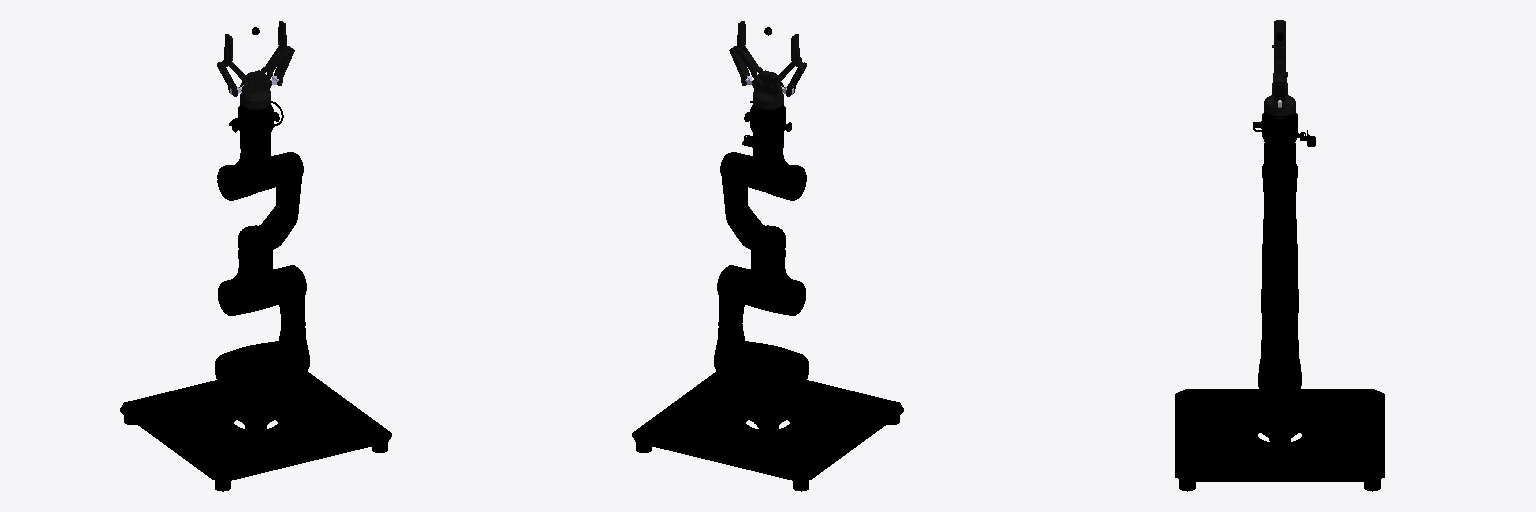
--- What the picture shows (computed from the rendered views, not written in the file) ---
The picture shows the robot from 3 angles, left to right: view 1: azimuth 30°, elevation 25°; view 2: azimuth 150°, elevation 25°; view 3: azimuth 270°, elevation 25°; orthographic projection.
Robot: mara — 32 links, 31 joints (12 revolute, 19 fixed); root link world; default pose: all joints at 0.
Visible links, largest first — view 1: base_link, motor1_link, motor4_link, motor3_link, motor2_link, motor1_cover, motor5_link, motor5_cover, motor3_cover, robotiq_arg2f_base_link, robotiq_adapter_link, motor6_link; view 2: base_link, motor1_link, motor4_link, motor3_link, motor2_link, motor1_cover, motor5_link, motor3_cover, motor5_cover, robotiq_arg2f_base_link, robotiq_adapter_link; view 3: base_link, motor2_link, motor4_link, motor3_link, motor5_link, motor1_link, motor6_link, robotiq_adapter_link.
Boxes of the visible links, x1=… form: base_link: x1=120, y1=371, x2=391, y2=491; motor1_link: x1=236, y1=340, x2=293, y2=429; motor4_link: x1=238, y1=152, x2=303, y2=253; motor3_link: x1=231, y1=250, x2=289, y2=310; motor2_link: x1=279, y1=265, x2=309, y2=376; motor1_cover: x1=215, y1=339, x2=297, y2=424; motor5_link: x1=234, y1=135, x2=286, y2=192; motor5_cover: x1=217, y1=133, x2=290, y2=200; motor3_cover: x1=218, y1=247, x2=292, y2=315; robotiq_arg2f_base_link: x1=239, y1=70, x2=271, y2=110; robotiq_adapter_link: x1=232, y1=105, x2=279, y2=134; motor6_link: x1=238, y1=101, x2=283, y2=137; base_link: x1=632, y1=371, x2=903, y2=491; motor1_link: x1=730, y1=340, x2=787, y2=429; motor4_link: x1=720, y1=152, x2=785, y2=253; motor3_link: x1=734, y1=250, x2=792, y2=310; motor2_link: x1=714, y1=265, x2=744, y2=376; motor1_cover: x1=726, y1=339, x2=808, y2=424; motor5_link: x1=737, y1=135, x2=789, y2=192; motor3_cover: x1=731, y1=247, x2=805, y2=315; motor5_cover: x1=733, y1=133, x2=806, y2=200; robotiq_arg2f_base_link: x1=752, y1=70, x2=784, y2=111; robotiq_adapter_link: x1=744, y1=105, x2=791, y2=134; base_link: x1=1175, y1=389, x2=1384, y2=491; motor2_link: x1=1260, y1=301, x2=1299, y2=417; motor4_link: x1=1262, y1=184, x2=1297, y2=261; motor3_link: x1=1261, y1=261, x2=1298, y2=313; motor5_link: x1=1263, y1=143, x2=1296, y2=195; motor1_link: x1=1258, y1=366, x2=1301, y2=442; motor6_link: x1=1253, y1=112, x2=1297, y2=145; robotiq_adapter_link: x1=1262, y1=113, x2=1297, y2=144.
Size in the robot's own frame: 0.5 by 0.5 by 1.09 metres.
23 mesh visuals loaded from 25 distinct referenced files (23 Collada DAE); not drawn: 6 (reference not matched to a file when rendering).

robot.urdf — mara:
<?xml version="1.0" ?>
<!-- =================================================================================== -->
<!-- |    This document was autogenerated by xacro from [local-path]/ros2_mara_ws/src/MARA/mara_description/urdf/reinforcement_learning/mara_robot_gripper_140_camera_train.urdf.xacro | -->
<!-- |    EDITING THIS FILE BY HAND IS NOT RECOMMENDED                                 | -->
<!-- =================================================================================== -->
<robot name="mara" xmlns:xacro="http://ros.org/wiki/xacro">
  <link name="base_link">
    <inertial>
      <origin rpy="0 0 0" xyz="8.625E-08 -4.6583E-06 0.03145"/>
      <mass value="7.033"/>
      <inertia ixx="0.1478344" ixy="-0.00001" ixz="0.0" iyy="0.14782335" iyz="0.0" izz="0.29471799"/>
    </inertial>
    <visual>
      <origin rpy="0 0 0" xyz="0 0 0"/>
      <geometry>
        <mesh filename="package://mara_description/meshes/Base_plancha.dae" scale="0.001 0.001 0.001"/>
      </geometry>
      <material name="Gazebo/Grey">
        <color rgba="0. 0. 0. 1"/>
      </material>
    </visual>
    <collision>
      <origin rpy="0 0 0" xyz="0 0 0"/>
      <geometry>
        <mesh filename="package://mara_description/meshes/Base_plancha.dae" scale="0.001 0.001 0.001"/>
      </geometry>
    </collision>
  </link>
  <gazebo reference="base_link">
    <material>Gazebo/Grey</material>
    <selfCollide>True</selfCollide>
  </gazebo>
  <link name="motor1_link">
    <inertial>
      <origin rpy="0 0 0" xyz="0.02066 0 0.12051"/>
      <mass value="5.6"/>
      <inertia ixx="0.0200769278" ixy="-7.72273E-006" ixz="0.0050158708" iyy="0.0257088151" iyz="5.49229E-006" izz="0.0120821377"/>
    </inertial>
    <visual>
      <origin rpy="0 0 0" xyz="0 0 0"/>
      <geometry>
        <mesh filename="package://mara_description/meshes/MARA_T49.dae" scale="0.001 0.001 0.001"/>
      </geometry>
      <material name="Gazebo/White">
        <color rgba="0. 0. 0. 1"/>
      </material>
    </visual>
    <collision>
      <origin rpy="0 0 0" xyz="0 0 0"/>
      <geometry>
        <mesh filename="package://mara_description/meshes/MARA_T49.dae" scale="0.001 0.001 0.001"/>
      </geometry>
    </collision>
  </link>
  <gazebo reference="motor1_link">
    <material>Gazebo/White</material>
    <selfCollide>True</selfCollide>
  </gazebo>
  <link name="motor1_cover">
    <inertial>
      <origin rpy="0 0 0" xyz="8.625E-08 -4.6583E-06 0.03145"/>
      <mass value="0.0"/>
      <inertia ixx="0.0" ixy="0.0" ixz="0.0" iyy="0.0" iyz="0.0" izz="0.0"/>
    </inertial>
    <visual>
      <origin rpy="0 0 0" xyz="0 0 0"/>
      <geometry>
        <mesh filename="package://mara_description/meshes/MARA_T49_Black.dae" scale="0.001 0.001 0.001"/>
      </geometry>
      <material name="Gazebo/Black">
        <color rgba="0. 0. 0. 1"/>
      </material>
    </visual>
    <collision>
      <origin rpy="0 0 0" xyz="0 0 0"/>
      <geometry>
        <mesh filename="package://mara_description/meshes/MARA_T49_Black.dae" scale="0.001 0.001 0.001"/>
      </geometry>
    </collision>
  </link>
  <gazebo reference="motor1_cover">
    <material>Gazebo/Black</material>
    <selfCollide>True</selfCollide>
  </gazebo>
  <link name="motor2_link">
    <inertial>
      <origin rpy="0 0 0" xyz="-0.01665 0.0 0.09639"/>
      <mass value="1.236"/>
      <inertia ixx="0.0079614839" ixy="0.000000037" ixz="-0.0003203013" iyy="0.007135338" iyz="-0.000001062" izz="0.001111114"/>
    </inertial>
    <visual>
      <origin rpy="0 0 0" xyz="0 0 0"/>
      <geometry>
        <mesh filename="package://mara_description/meshes/MARA_Link1.dae" scale="0.001 0.001 0.001"/>
      </geometry>
      <material name="Gazebo/Black">
        <color rgba="0. 0. 0. 1"/>
      </material>
    </visual>
    <collision>
      <origin rpy="0 0 0" xyz="0 0 0"/>
      <geometry>
        <mesh filename="package://mara_description/meshes/MARA_Link1.dae" scale="0.001 0.001 0.001"/>
      </geometry>
    </collision>
  </link>
  <gazebo reference="motor2_link">
    <material>Gazebo/Black</material>
    <selfCollide>True</selfCollide>
  </gazebo>
  <link name="motor3_link">
    <inertial>
      <origin rpy="0 0 0" xyz="-0.08963 0.0 0.0403"/>
      <mass value="3.95"/>
      <inertia ixx="0.0115136615" ixy="-1.231046E-005" ixz="-0.003148516" iyy="0.0149841676" iyz="-8.81378E-006" izz="0.0070387807"/>
    </inertial>
    <visual>
      <origin rpy="0 0 0" xyz="0 0 0"/>
      <geometry>
        <mesh filename="package://mara_description/meshes/MARA_T30.dae" scale="0.001 0.001 0.001"/>
      </geometry>
      <material name="Gazebo/White">
        <color rgba="0. 0. 0. 1"/>
      </material>
    </visual>
    <collision>
      <origin rpy="0 0 0" xyz="0 0 0"/>
      <geometry>
        <mesh filename="package://mara_description/meshes/MARA_T30.dae" scale="0.001 0.001 0.001"/>
      </geometry>
    </collision>
  </link>
  <gazebo reference="motor3_link">
    <material>Gazebo/White</material>
    <selfCollide>True</selfCollide>
  </gazebo>
  <link name="motor3_cover">
    <inertial>
      <origin rpy="0 0 0" xyz="8.625E-08 -4.6583E-06 0.03145"/>
      <mass value="0.0"/>
      <inertia ixx="0.0" ixy="0.0" ixz="0.0" iyy="0.0" iyz="0.0" izz="0.0"/>
    </inertial>
    <visual>
      <origin rpy="0 0 0" xyz="0 0 0"/>
      <geometry>
        <mesh filename="package://mara_description/meshes/MARA_T30_Black.dae" scale="0.001 0.001 0.001"/>
      </geometry>
      <material name="Gazebo/Black">
        <color rgba="0. 0. 0. 1"/>
      </material>
    </visual>
    <collision>
      <origin rpy="0 0 0" xyz="0 0 0"/>
      <geometry>
        <mesh filename="package://mara_description/meshes/MARA_T30_Black.dae" scale="0.001 0.001 0.001"/>
      </geometry>
    </collision>
  </link>
  <gazebo reference="motor3_cover">
    <material>Gazebo/Black</material>
    <selfCollide>True</selfCollide>
  </gazebo>
  <link name="motor4_link">
    <inertial>
      <origin rpy="0 0 0" xyz="0.06357 0.0 0.05698"/>
      <mass value="1.258"/>
      <inertia ixx="0.005919676" ixy="0.000000923" ixz="0.0022280208" iyy="0.0068807393" iyz="6.1373E-007" izz="0.00257485"/>
    </inertial>
    <visual>
      <origin rpy="0 0 0" xyz="0 0 0"/>
      <geometry>
        <mesh filename="package://mara_description/meshes/MARA_Link2.dae" scale="0.001 0.001 0.001"/>
      </geometry>
      <material name="Gazebo/Black">
        <color rgba="0. 0. 0. 1"/>
      </material>
    </visual>
    <collision>
      <origin rpy="0 0 0" xyz="0 0 0"/>
      <geometry>
        <mesh filename="package://mara_description/meshes/MARA_Link2.dae" scale="0.001 0.001 0.001"/>
      </geometry>
    </collision>
  </link>
  <gazebo reference="motor4_link">
    <material>Gazebo/Black</material>
    <selfCollide>True</selfCollide>
  </gazebo>
  <link name="motor5_link">
    <inertial>
      <origin rpy="0 0 0" xyz="-0.09105 0.0 0.03676"/>
      <mass value="2.85"/>
      <inertia ixx="0.0072829492" ixy="3.77994E-006" ixz="-0.0015682105" iyy="0.0098263499" iyz="2.52745E-006" izz="0.0045615321"/>
    </inertial>
    <visual>
      <origin rpy="0 0 0" xyz="0 0 0"/>
      <geometry>
        <mesh filename="package://mara_description/meshes/MARA_T5.4.dae" scale="0.001 0.001 0.001"/>
      </geometry>
      <material name="Gazebo/White">
        <color rgba="0. 0. 0. 1"/>
      </material>
    </visual>
    <collision>
      <origin rpy="0 0 0" xyz="0 0 0"/>
      <geometry>
        <mesh filename="package://mara_description/meshes/MARA_T5.4.dae" scale="0.001 0.001 0.001"/>
      </geometry>
    </collision>
  </link>
  <gazebo reference="motor5_link">
    <material>Gazebo/White</material>
    <selfCollide>True</selfCollide>
  </gazebo>
  <link name="motor5_cover">
    <inertial>
      <origin rpy="0 0 0" xyz="8.625E-08 -4.6583E-06 0.03145"/>
      <mass value="0.0"/>
      <inertia ixx="0.0" ixy="0.0" ixz="0.0" iyy="0.0" iyz="0.0" izz="0.0"/>
    </inertial>
    <visual>
      <origin rpy="0 0 0" xyz="0 0 0"/>
      <geometry>
        <mesh filename="package://mara_description/meshes/MARA_T5.4_black.dae" scale="0.001 0.001 0.001"/>
      </geometry>
      <material name="Gazebo/Black">
        <color rgba="0. 0. 0. 1"/>
      </material>
    </visual>
    <collision>
      <origin rpy="0 0 0" xyz="0 0 0"/>
      <geometry>
        <mesh filename="package://mara_description/meshes/MARA_T5.4_black.dae" scale="0.001 0.001 0.001"/>
      </geometry>
    </collision>
  </link>
  <gazebo reference="motor5_cover">
    <material>Gazebo/Black</material>
    <selfCollide>True</selfCollide>
  </gazebo>
  <link name="motor6_link">
    <inertial>
      <origin rpy="0 0 0" xyz="0.0 0.0 -0.0173"/>
      <mass value="0.14"/>
      <inertia ixx="9.22e-05" ixy="6.35e-7" ixz="2.00e-11" iyy="9.73e-5" iyz="2.36e-9" izz="1.77e-4"/>
    </inertial>
    <visual>
      <origin rpy="0 0 0" xyz="0 0 0"/>
      <geometry>
        <mesh filename="package://mara_description/meshes/MARA_GripperAdapter.dae" scale="0.001 0.001 0.001"/>
      </geometry>
      <material name="Gazebo/Black">
        <color rgba="0. 0. 0. 1"/>
      </material>
    </visual>
    <collision>
      <origin rpy="0 0 0" xyz="0 0 0"/>
      <geometry>
        <mesh filename="package://mara_description/meshes/MARA_GripperAdapter.dae" scale="0.001 0.001 0.001"/>
      </geometry>
    </collision>
  </link>
  <gazebo reference="motor6_link">
    <material>Gazebo/Black</material>
    <selfCollide>True</selfCollide>
  </gazebo>
  <link name="ee_link">
    <visual>
      <geometry>
        <sphere radius="0.01"/>
      </geometry>
      <material name="Gazebo/Grey">
        <color rgba="0. 0. 0. 1"/>
      </material>
    </visual>
  </link>
  <gazebo reference="ee_link">
    <material>Gazebo/Blue</material>
    <selfCollide>False</selfCollide>
  </gazebo>
  <joint name="motor1" type="revolute">
    <origin rpy="0 0 0" xyz="0 0 0.02125"/>
    <parent link="base_link"/>
    <child link="motor1_link"/>
    <axis xyz="0 0 1"/>
    <limit effort="104.0" lower="-3.1416" upper="3.1416" velocity="1.57"/>
    <dynamics damping="0" friction="0"/>
  </joint>
  <joint name="motor1_cover_joint" type="fixed">
    <origin rpy="0 0 0" xyz="0 0 0.0"/>
    <parent link="motor1_link"/>
    <child link="motor1_cover"/>
  </joint>
  <joint name="motor2" type="revolute">
    <origin rpy="0 0 0" xyz="0.118 0 0.1637"/>
    <parent link="motor1_link"/>
    <child link="motor2_link"/>
    <axis xyz="1 0 0"/>
    <limit effort="104.0" lower="-2.35" upper="2.35" velocity="1.57"/>
    <dynamics damping="0" friction="0"/>
  </joint>
  <joint name="motor3" type="revolute">
    <origin rpy="0 0 0" xyz="-0.009 0 0.2"/>
    <parent link="motor2_link"/>
    <child link="motor3_link"/>
    <axis xyz="-1 0 0"/>
    <limit effort="69" lower="-2.61" upper="2.61" velocity="1.57"/>
    <dynamics damping="0" friction="0"/>
  </joint>
  <joint name="motor3_cover_joint" type="fixed">
    <origin rpy="0 0 0" xyz="0 0 0.0"/>
    <parent link="motor3_link"/>
    <child link="motor3_cover"/>
  </joint>
  <joint name="motor4" type="revolute">
    <origin rpy="0 0 0" xyz="-0.109255 0 0.149255"/>
    <parent link="motor3_link"/>
    <child link="motor4_link"/>
    <axis xyz="0 0 1"/>
    <limit effort="69" lower="-3.14" upper="3.14" velocity="1.57"/>
    <dynamics damping="0" friction="0"/>
  </joint>
  <joint name="motor5" type="revolute">
    <origin rpy="0 0 0" xyz="0.1054570 0 0.16074"/>
    <parent link="motor4_link"/>
    <child link="motor5_link"/>
    <axis xyz="-1 0 0"/>
    <limit effort="34" lower="-2.56" upper="2.56" velocity="1.57"/>
    <dynamics damping="0" friction="0"/>
  </joint>
  <joint name="motor5_cover_joint" type="fixed">
    <origin rpy="0 0 0" xyz="0 0 0.0"/>
    <parent link="motor5_link"/>
    <child link="motor5_cover"/>
  </joint>
  <joint name="motor6" type="revolute">
    <origin rpy="0 0 0" xyz="-0.10625569 0 0.14675569"/>
    <parent link="motor5_link"/>
    <child link="motor6_link"/>
    <axis xyz="0 0 1"/>
    <limit effort="34" lower="-3.14" upper="3.14" velocity="1.57"/>
    <dynamics damping="0" friction="0"/>
  </joint>
  <joint name="ee_link" type="fixed">
    <origin rpy="0 -1.57 0" xyz="0 0.0 0.24"/>
    <!-- 0.24 -->
    <parent link="motor6_link"/>
    <child link="ee_link"/>
  </joint>
  <link name="tool0"/>
  <joint name="motor6_link-tool0_fixed_joint" type="fixed">
    <origin rpy="0 -1.57 0" xyz="0 0.0 0.24"/>
    <parent link="motor6_link"/>
    <child link="tool0"/>
  </joint>
  <transmission name="shoulder_pan_trans">
    <type>transmission_interface/SimpleTransmission</type>
    <joint name="motor1">
      <hardwareInterface>hardware_interface/PositionJointInterface</hardwareInterface>
    </joint>
    <actuator name="shoulder_pan_motor">
      <mechanicalReduction>1</mechanicalReduction>
    </actuator>
  </transmission>
  <transmission name="shoulder_lift_trans">
    <type>transmission_interface/SimpleTransmission</type>
    <joint name="motor2">
      <hardwareInterface>hardware_interface/PositionJointInterface</hardwareInterface>
    </joint>
    <actuator name="shoulder_lift_motor">
      <mechanicalReduction>1</mechanicalReduction>
    </actuator>
  </transmission>
  <transmission name="elbow_trans">
    <type>transmission_interface/SimpleTransmission</type>
    <joint name="motor3">
      <hardwareInterface>hardware_interface/PositionJointInterface</hardwareInterface>
    </joint>
    <actuator name="elbow_motor">
      <mechanicalReduction>1</mechanicalReduction>
    </actuator>
  </transmission>
  <transmission name="wrist_1_trans">
    <type>transmission_interface/SimpleTransmission</type>
    <joint name="motor4">
      <hardwareInterface>hardware_interface/PositionJointInterface</hardwareInterface>
    </joint>
    <actuator name="wrist_1_motor">
      <mechanicalReduction>1</mechanicalReduction>
    </actuator>
  </transmission>
  <transmission name="wrist_2_trans">
    <type>transmission_interface/SimpleTransmission</type>
    <joint name="motor5">
      <hardwareInterface>hardware_interface/PositionJointInterface</hardwareInterface>
    </joint>
    <actuator name="wrist_2_motor">
      <mechanicalReduction>1</mechanicalReduction>
    </actuator>
  </transmission>
  <transmission name="wrist_3_trans">
    <type>transmission_interface/SimpleTransmission</type>
    <joint name="motor6">
      <hardwareInterface>hardware_interface/PositionJointInterface</hardwareInterface>
    </joint>
    <actuator name="wrist_3_motor">
      <mechanicalReduction>1</mechanicalReduction>
    </actuator>
  </transmission>
  <gazebo>
    <plugin filename="libmara_gazebo_joint_training_plugin.so" name="hrim_actuation_servomotor_00000000000">
      <ros/>
      <axis1>motor2</axis1>
      <axis2>motor1</axis2>
      <axis3>motor3</axis3>
      <axis4>motor4</axis4>
      <axis5>motor5</axis5>
      <axis6>motor6</axis6>
    </plugin>
  </gazebo>
  <link name="mara_gripper_adapter">
    <inertial>
      <origin rpy="0 0 0" xyz="8.625E-08 -4.6583E-06 0.03145"/>
      <mass value="0.1"/>
      <inertia ixx="91283.23E-9" ixy="634.87E-9" ixz="-0.02E-9" iyy="97239.94E-9" iyz="93.72E-9" izz="175963.64E-9"/>
    </inertial>
    <visual>
      <origin rpy="0 0 0" xyz="0 0 0"/>
      <geometry>
        <mesh filename="package://mara_description/meshes/ROBOTIQ_Gripper_Adapter.dae" scale="0.001 0.001 0.001"/>
      </geometry>
      <material name="Gazebo/Wood">
        <color rgba="0. 0. 0. 1"/>
      </material>
    </visual>
    <collision>
      <origin rpy="0 0 0" xyz="0 0 0"/>
      <geometry>
        <mesh filename="package://mara_description/meshes/ROBOTIQ_Gripper_Adapter.dae" scale="0.001 0.001 0.001"/>
      </geometry>
    </collision>
  </link>
  <gazebo reference="mara_gripper_adapter">
    <material>Gazebo/Black</material>
    <selfCollide>True</selfCollide>
  </gazebo>
  <link name="mara_camera_support1_link">
    <inertial>
      <origin rpy="0 0 0" xyz="8.625E-08 -4.6583E-06 0.03145"/>
      <mass value="0.00361"/>
      <inertia ixx="266.47E-9" ixy="0.0" ixz="0.0" iyy="115.40E-9" iyz="-0.40E-9" izz="233.53E-9"/>
    </inertial>
    <visual>
      <origin rpy="0 0 0" xyz="0 0 0"/>
      <geometry>
        <mesh filename="package://mara_description/meshes/Camera_Support_1.dae" scale="0.001 0.001 0.001"/>
      </geometry>
      <material name="Gazebo/Wood">
        <color rgba="0. 0. 0. 1"/>
      </material>
    </visual>
    <collision>
      <origin rpy="0 0 0" xyz="0 0 0"/>
      <geometry>
        <mesh filename="package://mara_description/meshes/Camera_Support_1.dae" scale="0.001 0.001 0.001"/>
      </geometry>
    </collision>
  </link>
  <gazebo reference="mara_camera_support1_link">
    <material>Gazebo/Black</material>
    <selfCollide>True</selfCollide>
  </gazebo>
  <link name="mara_camera_support2_link">
    <inertial>
      <origin rpy="0 0 0" xyz="8.625E-08 -4.6583E-06 0.03145"/>
      <mass value="0.00676"/>
      <inertia ixx="584.80E-9" ixy="28.57E-9" ixz="-2.42E-9" iyy="1930.29E-9" iyz="-140.62E-9" izz="2077.50E-9"/>
    </inertial>
    <visual>
      <origin rpy="0 0 0" xyz="0 0 0"/>
      <geometry>
        <mesh filename="package://mara_description/meshes/Camera_Support_2.dae" scale="0.001 0.001 0.001"/>
      </geometry>
      <material name="Gazebo/Wood">
        <color rgba="0. 0. 0. 1"/>
      </material>
    </visual>
    <collision>
      <origin rpy="0 0 0" xyz="0 0 0"/>
      <geometry>
        <mesh filename="package://mara_description/meshes/Camera_Support_2.dae" scale="0.001 0.001 0.001"/>
      </geometry>
    </collision>
  </link>
  <gazebo reference="mara_camera_support2_link">
    <material>Gazebo/Black</material>
    <selfCollide>True</selfCollide>
  </gazebo>
  <joint name="gripper_adapter_to_camera_support1" type="fixed">
    <origin rpy="0 0 0" xyz="0 0.03956 -0.0213"/>
    <parent link="mara_gripper_adapter"/>
    <child link="mara_camera_support1_link"/>
  </joint>
  <joint name="camera_support1_to_support2" type="fixed">
    <origin rpy="0 0 0" xyz="0 0.01029 -0.0128"/>
    <parent link="mara_camera_support1_link"/>
    <child link="mara_camera_support2_link"/>
  </joint>
  <link name="camera_link">
    <inertial>
      <origin rpy="0 0 0" xyz="8.625E-08 -4.6583E-06 0.03145"/>
      <mass value="0.07397"/>
      <inertia ixx="6975.32E-9" ixy="287.18E-9" ixz="25.68E-9" iyy="47975.37E-9" iyz="-25.58E-9" izz="48114.25E-9"/>
    </inertial>
    <visual>
      <origin rpy="0 0 0" xyz="0 0 0"/>
      <geometry>
        <mesh filename="package://mara_description/meshes/Intel_RealSense_Depth_Camera_D435.dae" scale="0.001 0.001 0.001"/>
      </geometry>
      <material name="aluminum">
        <color rgba="0.5 0.5 0.5 1"/>
      </material>
    </visual>
    <collision>
      <origin rpy="0 0 0" xyz="0 0 0"/>
      <geometry>
        <mesh filename="package://mara_description/meshes/Intel_RealSense_Depth_Camera_D435.dae" scale="0.001 0.001 0.001"/>
      </geometry>
    </collision>
  </link>
  <gazebo reference="camera_link">
    <material>Gazebo/Grey</material>
    <selfCollide>True</selfCollide>
  </gazebo>
  <link name="camera_right_depth"/>
  <link name="camera_ir_projector"/>
  <link name="camera_left_depth"/>
  <link name="camera_color"/>
  <gazebo reference="camera_color">
    <sensor name="sensor_camera" type="camera">
      <alwaysOn>true</alwaysOn>
      <!-- <visualize>true</visualize> -->
      <camera>
        <image>
          <width>640</width>
          <height>480</height>
          <format>R8G8B8</format>
        </image>
      </camera>
      <plugin filename="libgazebo_ros_camera.so" name="gazebo_plugins">
        <ros>
          <namespace>rs_camera</namespace>
          <argument>image_raw:=custom_img</argument>
          <argument>camera_info:=custom_info</argument>
        </ros>
        <camera_name>rs_d435</camera_name>
        <frame_name>rs_camera_frame</frame_name>
        <hack_baseline>0.07</hack_baseline>
      </plugin>
    </sensor>
  </gazebo>
  <joint name="camera_to_right_depth" type="fixed">
    <origin rpy="0 0 0" xyz="0.0325 0.024 0.0"/>
    <parent link="camera_link"/>
    <child link="camera_right_depth"/>
  </joint>
  <joint name="camera_to_ir_projector" type="fixed">
    <origin rpy="0 0 0" xyz="0.0115 0.0214 0.0"/>
    <parent link="camera_link"/>
    <child link="camera_ir_projector"/>
  </joint>
  <joint name="camera_to_left_depth" type="fixed">
    <origin rpy="0 0 0" xyz="-0.0175 0.024 0.0"/>
    <parent link="camera_link"/>
    <child link="camera_left_depth"/>
  </joint>
  <joint name="camera_to_color" type="fixed">
    <origin rpy="0.0 0.0 1.57" xyz="-0.0325 0.0214 0.0"/>
    <parent link="camera_link"/>
    <child link="camera_color"/>
  </joint>
  <link name="robotiq_adapter_link">
    <inertial>
      <origin rpy="0 0 0" xyz="8.625E-08 -4.6583E-06 0.03145"/>
      <mass value="0.22652"/>
      <inertia ixx="0.00020005" ixy="0" ixz="0" iyy="0.00017832" iyz="0" izz="0.00013478"/>
    </inertial>
    <visual>
      <origin rpy="0 0 1.57" xyz="0 0 0"/>
      <geometry>
        <mesh filename="package://robotiq_140_gripper_description/meshes/hros_robotiq_adapter.dae" scale="0.001 0.001 0.001"/>
      </geometry>
      <material name="Gazebo/Black">
        <color rgba="0.0 0.0 0.0 1"/>
      </material>
    </visual>
    <collision>
      <origin rpy="0 0 1.57" xyz="0 0 0"/>
      <geometry>
        <mesh filename="package://robotiq_140_gripper_description/meshes/hros_robotiq_adapter.dae" scale="0.001 0.001 0.001"/>
      </geometry>
    </collision>
  </link>
  <gazebo reference="robotiq_adapter_link">
    <material>Gazebo/Black</material>
    <selfCollide>False</selfCollide>
  </gazebo>
  <joint name="base_adapter_to_base_robotiq_joint" type="fixed">
    <origin rpy="0 0 0" xyz=" 0 0 0.03653"/>
    <parent link="robotiq_adapter_link"/>
    <child link="robotiq_arg2f_base_link"/>
  </joint>
  <link name="robotiq_arg2f_base_link">
    <inertial>
      <origin rpy="0 0 0" xyz="8.625E-08 -4.6583E-06 0.03145"/>
      <mass value="0.22652"/>
      <inertia ixx="0.00020005" ixy="0" ixz="0" iyy="0.00017832" iyz="0" izz="0.00013478"/>
    </inertial>
    <visual>
      <origin rpy="0 0 1.57" xyz="0 0 0"/>
      <geometry>
        <mesh filename="package://robotiq_140_gripper_description/meshes/GRIPPER_base_axis.dae" scale="0.001 0.001 0.001"/>
      </geometry>
      <material name="Gazebo/Black">
        <color rgba="0.1 0.1 0.1 1"/>
      </material>
    </visual>
    <collision>
      <origin rpy="0 0 1.57" xyz="0 0 0"/>
      <geometry>
        <mesh filename="package://robotiq_140_gripper_description/meshes/GRIPPER_base_axis.dae" scale="0.001 0.001 0.001"/>
      </geometry>
    </collision>
  </link>
  <gazebo reference="robotiq_arg2f_base_link">
    <material>Gazebo/Black</material>
    <selfCollide>False</selfCollide>
  </gazebo>
  <link name="left_outer_knuckle">
    <inertial>
      <origin rpy="0 0 0" xyz="0 0 0"/>
      <mass value="0.00853198276973456"/>
      <inertia ixx="2.89328108496468E-06" ixy="-1.57935047237397E-19" ixz="-1.93980378593255E-19" iyy="1.86719750325683E-06" iyz="-1.21858577871576E-06" izz="1.21905238907251E-06"/>
    </inertial>
    <visual>
      <origin rpy="0 0 0" xyz="0 0 0"/>
      <geometry>
        <mesh filename="package://robotiq_140_gripper_description/meshes/robotiq_140_left_outer_knuckle.dae"/>
      </geometry>
      <material name="">
        <color rgba="0.792156862745098 0.819607843137255 0.933333333333333 1"/>
      </material>
    </visual>
    <collision>
      <origin rpy="0 0 0" xyz="0 0 0"/>
      <geometry>
        <mesh filename="package://robotiq_140_gripper_description/meshes/robotiq_140_left_outer_knuckle.dae"/>
      </geometry>
    </collision>
  </link>
  <gazebo reference="left_outer_knuckle">
    <material>Gazebo/Grey</material>
    <selfCollide>False</selfCollide>
  </gazebo>
  <link name="right_outer_knuckle">
    <inertial>
      <origin rpy="0 0 0" xyz="0 0 0"/>
      <mass value="0.00853198276973456"/>
      <inertia ixx="2.89328108496468E-06" ixy="-1.57935047237397E-19" ixz="-1.93980378593255E-19" iyy="1.86719750325683E-06" iyz="-1.21858577871576E-06" izz="1.21905238907251E-06"/>
    </inertial>
    <visual>
      <origin rpy="0 0 0" xyz="0 0 0"/>
      <geometry>
        <mesh filename="package://robotiq_140_gripper_description/meshes/robotiq_140_right_outer_knuckle.dae"/>
      </geometry>
      <material name="">
        <color rgba="0.792156862745098 0.819607843137255 0.933333333333333 1"/>
      </material>
    </visual>
    <collision>
      <origin rpy="0 0 0" xyz="0 0 0"/>
      <geometry>
        <mesh filename="package://robotiq_140_gripper_description/meshes/robotiq_140_right_outer_knuckle.dae"/>
      </geometry>
    </collision>
  </link>
  <gazebo reference="right_outer_knuckle">
    <material>Gazebo/Grey</material>
    <selfCollide>False</selfCollide>
  </gazebo>
  <link name="left_inner_knuckle">
    <inertial>
      <origin rpy="0 0 0" xyz="0.000123011831763771 0.0507850843201817 0.00103968640075166"/>
      <mass value="0.0271177346495152"/>
      <inertia ixx="2.61910379223783E-05" ixy="-2.43616858946494E-07" ixz="-6.37789906117123E-09" iyy="2.8270243746167E-06" iyz="-5.37200748039765E-07" izz="2.83695868220296E-05"/>
    </inertial>
    <visual>
      <origin rpy="0 0 0" xyz="0 0 0"/>
      <geometry>
        <mesh filename="package://robotiq_140_gripper_description/meshes/robotiq_140_left_inner_knuckle.dae"/>
      </geometry>
      <material name="Gazebo/Black">
        <color rgba="0.1 0.1 0.1 1"/>
      </material>
    </visual>
  </link>
  <gazebo reference="left_inner_knuckle">
    <material>Gazebo/Black</material>
    <selfCollide>False</selfCollide>
  </gazebo>
  <link name="right_inner_knuckle">
    <inertial>
      <origin rpy="0 0 0" xyz="0.000123011831763771 0.0507850843201817 0.00103968640075166"/>
      <mass value="0.0271177346495152"/>
      <inertia ixx="2.61910379223783E-05" ixy="-2.43616858946494E-07" ixz="-6.37789906117123E-09" iyy="2.8270243746167E-06" iyz="-5.37200748039765E-07" izz="2.83695868220296E-05"/>
    </inertial>
    <visual>
      <origin rpy="0 0 0" xyz="0 0 0"/>
      <geometry>
        <mesh filename="package://robotiq_140_gripper_description/meshes/robotiq_140_right_inner_knuckle.dae"/>
      </geometry>
      <material name="Gazebo/Black">
        <color rgba="0.1 0.1 0.1 1"/>
      </material>
    </visual>
  </link>
  <gazebo reference="right_inner_knuckle">
    <material>Gazebo/Black</material>
    <selfCollide>False</selfCollide>
  </gazebo>
  <link name="left_inner_finger">
    <inertial>
      <origin rpy="0 0 0" xyz="0.0 0.031506174 -0.017648840"/>
      <mass value="0.0104003125914103"/>
      <inertia ixx="2.71909453810972E-06" ixy="1.35402465472579E-21" ixz="-7.1817349065269E-22" iyy="7.69100314106116E-07" iyz="6.74715432769696E-07" izz="2.30315190420171E-06"/>
    </inertial>
    <visual>
      <origin rpy="0 0 0" xyz="0 0 0"/>
      <geometry>
        <mesh filename="package://robotiq_140_gripper_description/meshes/robotiq_140_left_inner_finger.dae" scale="0.001 0.001 0.001"/>
      </geometry>
      <material name="Gazebo/Black">
        <color rgba="0.1 0.1 0.1 1"/>
      </material>
    </visual>
    <collision>
      <origin rpy="0 0 0" xyz="0 0 0"/>
      <geometry>
        <mesh filename="package://robotiq_140_gripper_description/meshes/robotiq_140_left_inner_finger.dae" scale="0.001 0.001 0.001"/>
      </geometry>
    </collision>
  </link>
  <gazebo reference="left_inner_finger">
    <material>Gazebo/Black</material>
    <selfCollide>False</selfCollide>
  </gazebo>
  <link name="right_inner_finger">
    <inertial>
      <origin rpy="0 0 0" xyz="0.0 0.031506174 -0.017648840"/>
      <mass value="0.0104003125914103"/>
      <inertia ixx="2.71909453810972E-06" ixy="1.35402465472579E-21" ixz="-7.1817349065269E-22" iyy="7.69100314106116E-07" iyz="6.74715432769696E-07" izz="2.30315190420171E-06"/>
    </inertial>
    <visual>
      <origin rpy="0 0 0" xyz="0 0 0"/>
      <geometry>
        <mesh filename="package://robotiq_140_gripper_description/meshes/robotiq_140_right_inner_finger.dae" scale="0.001 0.001 0.001"/>
      </geometry>
      <material name="Gazebo/Black">
        <color rgba="0.1 0.1 0.1 1"/>
      </material>
    </visual>
    <collision>
      <origin rpy="0 0 0" xyz="0 0 0"/>
      <geometry>
        <mesh filename="package://robotiq_140_gripper_description/meshes/robotiq_140_right_inner_finger.dae" scale="0.001 0.001 0.001"/>
      </geometry>
    </collision>
  </link>
  <gazebo reference="right_inner_finger">
    <material>Gazebo/Black</material>
    <selfCollide>False</selfCollide>
  </gazebo>
  <link name="left_outer_finger">
    <inertial>
      <origin rpy="0 0 0" xyz="0.00030115855001899 0.0373907951953854 -0.0208027427000385"/>
      <mass value="0.022614240507152"/>
      <inertia ixx="1.52518312458174E-05" ixy="9.76583423954399E-10" ixz="-5.43838577022588E-10" iyy="6.17694243867776E-06" iyz="6.78636130740228E-06" izz="1.16494917907219E-05"/>
    </inertial>
    <visual>
      <origin rpy="0 0 0" xyz="0 0 0"/>
      <geometry>
        <mesh filename="package://robotiq_140_gripper_description/meshes/robotiq_140_left_outer_finger.dae"/>
      </geometry>
      <material name="Gazebo/Black">
        <color rgba="0.1 0.1 0.1 1"/>
      </material>
    </visual>
    <collision>
      <origin rpy="0 0 0" xyz="0 0 0"/>
      <geometry>
        <mesh filename="package://robotiq_140_gripper_description/meshes/robotiq_140_left_outer_finger.dae"/>
      </geometry>
    </collision>
  </link>
  <gazebo reference="left_outer_finger">
    <material>Gazebo/Black</material>
    <selfCollide>False</selfCollide>
  </gazebo>
  <link name="right_outer_finger">
    <inertial>
      <origin rpy="0 0 0" xyz="0.00030115855001899 0.0373907951953854 -0.0208027427000385"/>
      <mass value="0.022614240507152"/>
      <inertia ixx="1.52518312458174E-05" ixy="9.76583423954399E-10" ixz="-5.43838577022588E-10" iyy="6.17694243867776E-06" iyz="6.78636130740228E-06" izz="1.16494917907219E-05"/>
    </inertial>
    <visual>
      <origin rpy="0 0 0" xyz="0 0 0"/>
      <geometry>
        <mesh filename="package://robotiq_140_gripper_description/meshes/robotiq_140_right_outer_finger.dae"/>
      </geometry>
      <material name="Gazebo/Black">
        <color rgba="0.1 0.1 0.1 1"/>
      </material>
    </visual>
    <collision>
      <origin rpy="0 0 0" xyz="0 0 0"/>
      <geometry>
        <mesh filename="package://robotiq_140_gripper_description/meshes/robotiq_140_right_outer_finger.dae"/>
      </geometry>
    </collision>
  </link>
  <gazebo reference="right_outer_finger">
    <material>Gazebo/Black</material>
    <selfCollide>False</selfCollide>
  </gazebo>
  <joint name="left_outer_knuckle_joint" type="revolute">
    <origin rpy="2.31 0 0" xyz="0 -0.030601 0.054905"/>
    <parent link="robotiq_arg2f_base_link"/>
    <child link="left_outer_knuckle"/>
    <axis xyz="-1 0 0"/>
    <limit effort="1000" lower="0" upper="0.775" velocity="2.0"/>
    <mimic joint="joint_finger" multiplier="1" offset="0"/>
  </joint>
  <joint name="joint_finger" type="revolute">
    <origin rpy="2.31 0 3.14159265359" xyz="0 0.030601 0.054905"/>
    <parent link="robotiq_arg2f_base_link"/>
    <child link="right_outer_knuckle"/>
    <axis xyz="-1 0 0"/>
    <limit effort="1000" lower="0" upper="0.775" velocity="2.0"/>
  </joint>
  <joint name="left_inner_knuckle_joint" type="revolute">
    <origin rpy="2.29 0 0" xyz="0 -0.0127 0.06142"/>
    <parent link="robotiq_arg2f_base_link"/>
    <child link="left_inner_knuckle"/>
    <axis xyz="-1 0 0"/>
    <limit effort="1000" lower="0" upper="0.78" velocity="2.0"/>
    <mimic joint="joint_finger" multiplier="1" offset="0"/>
  </joint>
  <joint name="right_inner_knuckle_joint" type="revolute">
    <origin rpy="2.29 0 -3.14159265359" xyz="0 0.0127 0.06142"/>
    <parent link="robotiq_arg2f_base_link"/>
    <child link="right_inner_knuckle"/>
    <axis xyz="-1 0 0"/>
    <limit effort="1000" lower="0" upper="0.78" velocity="2.0"/>
    <mimic joint="joint_finger" multiplier="1" offset="0"/>
  </joint>
  <joint name="left_outer_finger_joint" type="fixed">
    <origin rpy="0 0 0" xyz="0 0.01821998610742 0.0260018192872234"/>
    <parent link="left_outer_knuckle"/>
    <child link="left_outer_finger"/>
  </joint>
  <joint name="right_outer_finger_joint" type="fixed">
    <origin rpy="0 0 0" xyz="0 0.01821998610742 0.0260018192872234"/>
    <parent link="right_outer_knuckle"/>
    <child link="right_outer_finger"/>
  </joint>
  <joint name="left_inner_finger_joint" type="revolute">
    <origin rpy="-.725 0 0" xyz="0 0.0817554015893473 -0.0282203446692936"/>
    <parent link="left_outer_finger"/>
    <child link="left_inner_finger"/>
    <axis xyz="1 0 0"/>
    <limit effort="1000" lower="0" upper="0.8757" velocity="2.0"/>
    <mimic joint="joint_finger" multiplier="1" offset="0"/>
  </joint>
  <joint name="right_inner_finger_joint" type="revolute">
    <origin rpy="-.725 0 0" xyz="0 0.0817554015893473 -0.0282203446692936"/>
    <parent link="right_outer_finger"/>
    <child link="right_inner_finger"/>
    <axis xyz="1 0 0"/>
    <limit effort="1000" lower="0" upper="0.8757" velocity="2.0"/>
    <mimic joint="joint_finger" multiplier="1" offset="0"/>
  </joint>
  <gazebo>
    <joint name="left_inner_finger_knuckle_joint" type="revolute">
      <pose frame="">0 0.006 -0.018 0 0 0</pose>
      <parent>mara::left_inner_knuckle</parent>
      <child>mara::left_inner_finger</child>
      <axis>
        <xyz>1 0 0</xyz>
        <limit>
          <lower>-0.8</lower>
          <upper>0.8</upper>
          <velocity>2.0</velocity>
          <effort>1000</effort>
        </limit>
      </axis>
    </joint>
    <joint name="right_inner_finger_knuckle_joint" type="revolute">
      <pose frame="">0 0.006 -0.018 0 0 0</pose>
      <parent>mara::right_inner_knuckle</parent>
      <child>mara::right_inner_finger</child>
      <axis>
        <xyz>-1 0 0</xyz>
        <limit>
          <lower>-0.8</lower>
          <upper>0.8</upper>
          <velocity>2.0</velocity>
          <effort>1000</effort>
        </limit>
      </axis>
    </joint>
    <plugin filename="librobotiq_gripper_gazebo_plugin.so" name="hrim_actuation_gripper_000000000004">
      <joint>left_inner_knuckle_joint</joint>
      <joint>left_outer_knuckle_joint</joint>
      <joint>right_inner_knuckle_joint</joint>
      <joint>joint_finger</joint>
    </plugin>
    <plugin filename="libgazebo_ros_joint_state_publisher.so" name="mara_joint_state">
      <ros>
        <argument>~/out:=joint_states</argument>
      </ros>
      <update_rate>25</update_rate>
      <joint_name>joint_finger</joint_name>
    </plugin>
  </gazebo>
  <link name="table">
    <contact>
      <lateral_friction value="1.0"/>
    </contact>
    <inertial>
      <origin rpy="0 0 0" xyz="0 0 0"/>
      <mass value="0.00001"/>
      <inertia ixx="0.001" ixy="0" ixz="0" iyy="0.001" iyz="0" izz="0.001"/>
    </inertial>
    <visual>
      <origin rpy="0 0 0" xyz="0 0 0.6"/>
      <geometry>
        <mesh filename="package://mara_description/urdf/table.obj" scale="1.5 1 0.05"/>
      </geometry>
      <material name="brown">
        <color rgba="0.63 0.16 0.16 1"/>
      </material>
    </visual>
    <collision>
      <origin rpy="0 0 0" xyz="0 0 0.6"/>
      <geometry>
        <box size="1.5 1 0.05"/>
      </geometry>
    </collision>
    <visual>
      <origin rpy="0 0 0" xyz="-0.65 -0.4 0.29"/>
      <geometry>
        <mesh filename="package://mara_description/urdf/table.obj" scale="0.1 0.1 0.58"/>
      </geometry>
      <material name="framemat0"/>
    </visual>
    <visual>
      <origin rpy="0 0 0" xyz="-0.65 0.4 0.29"/>
      <geometry>
        <mesh filename="package://mara_description/urdf/table.obj" scale="0.1 0.1 0.58"/>
      </geometry>
      <material name="framemat0"/>
    </visual>
    <visual>
      <origin rpy="0 0 0" xyz="0.65 -0.4 0.29"/>
      <geometry>
        <mesh filename="package://mara_description/urdf/table.obj" scale="0.1 0.1 0.58"/>
      </geometry>
      <material name="framemat0"/>
    </visual>
    <visual>
      <origin rpy="0 0 0" xyz="0.65 0.4 0.29"/>
      <geometry>
        <mesh filename="package://mara_description/urdf/table.obj" scale="0.1 0.1 0.58"/>
      </geometry>
    </visual>
  </link>
  <gazebo reference="table">
    <material>Gazebo/Brown</material>
    <selfCollide>True</selfCollide>
  </gazebo>
  <link name="world"/>
  <joint name="motor6_to_gripper_adapter" type="fixed">
    <origin rpy="0 0 0" xyz="0 0 0.002026"/>
    <parent link="motor6_link"/>
    <child link="mara_gripper_adapter"/>
  </joint>
  <joint name="gripper_adapter_to_robotiq_adapter" type="fixed">
    <origin rpy="0 0 1.57" xyz=" 0 0 0"/>
    <parent link="mara_gripper_adapter"/>
    <child link="robotiq_adapter_link"/>
  </joint>
  <joint name="camera_support2_to_camera" type="fixed">
    <origin rpy="0 0 0" xyz="0 0.018 0.012"/>
    <parent link="mara_camera_support2_link"/>
    <child link="camera_link"/>
  </joint>
  <joint name="world_to_table_joint" type="fixed">
    <origin rpy="0 0 0" xyz="0 0 0.02"/>
    <parent link="world"/>
    <child link="table"/>
  </joint>
  <joint name="table_to_base_joint" type="fixed">
    <origin rpy="0 0 0" xyz="0 0 0.62"/>
    <parent link="table"/>
    <child link="base_link"/>
  </joint>
</robot>
